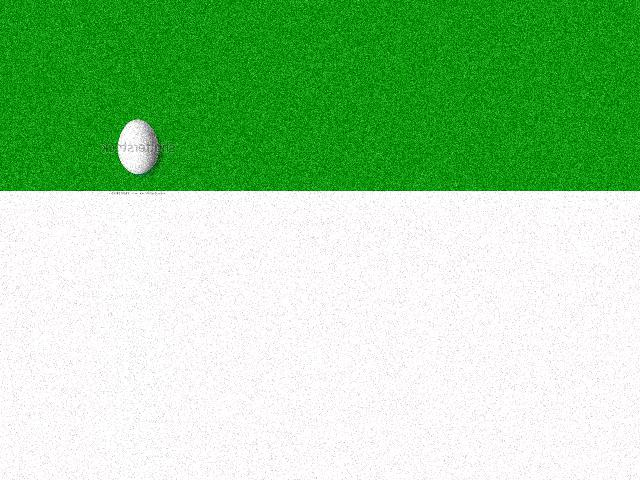egg: (117, 119, 158, 174)
